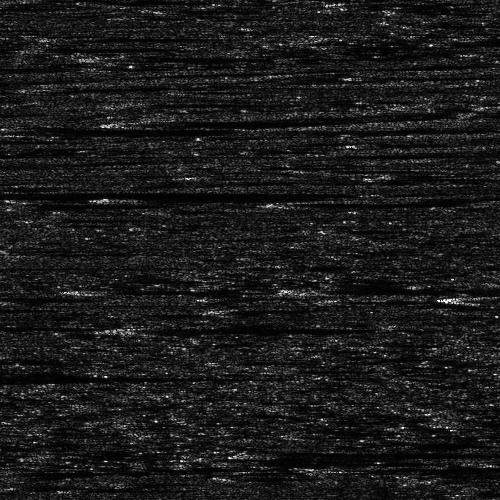rock: (391, 292, 500, 305), (265, 462, 380, 473), (232, 198, 337, 207), (70, 53, 163, 60), (0, 119, 45, 130), (4, 201, 35, 212), (58, 287, 121, 292), (96, 100, 149, 105), (20, 44, 61, 49), (0, 290, 13, 301), (102, 326, 143, 329), (242, 451, 273, 454), (117, 119, 128, 124), (0, 324, 8, 329)
shadow: (0, 187, 226, 202), (0, 369, 195, 384), (9, 119, 233, 130), (323, 462, 500, 473), (285, 198, 434, 207), (117, 53, 256, 60), (123, 119, 310, 124), (0, 290, 72, 301), (258, 451, 500, 454), (123, 100, 264, 105), (90, 287, 230, 292), (41, 44, 176, 49), (123, 326, 314, 329), (312, 287, 500, 290), (20, 201, 65, 212), (464, 292, 500, 305), (0, 324, 72, 329), (0, 303, 43, 310)
